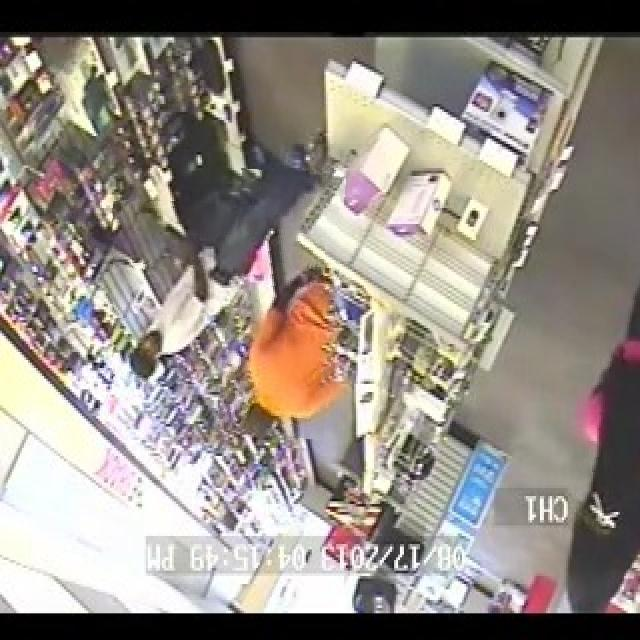Normal: (223, 170, 340, 438), (577, 261, 640, 570), (113, 201, 214, 382)
